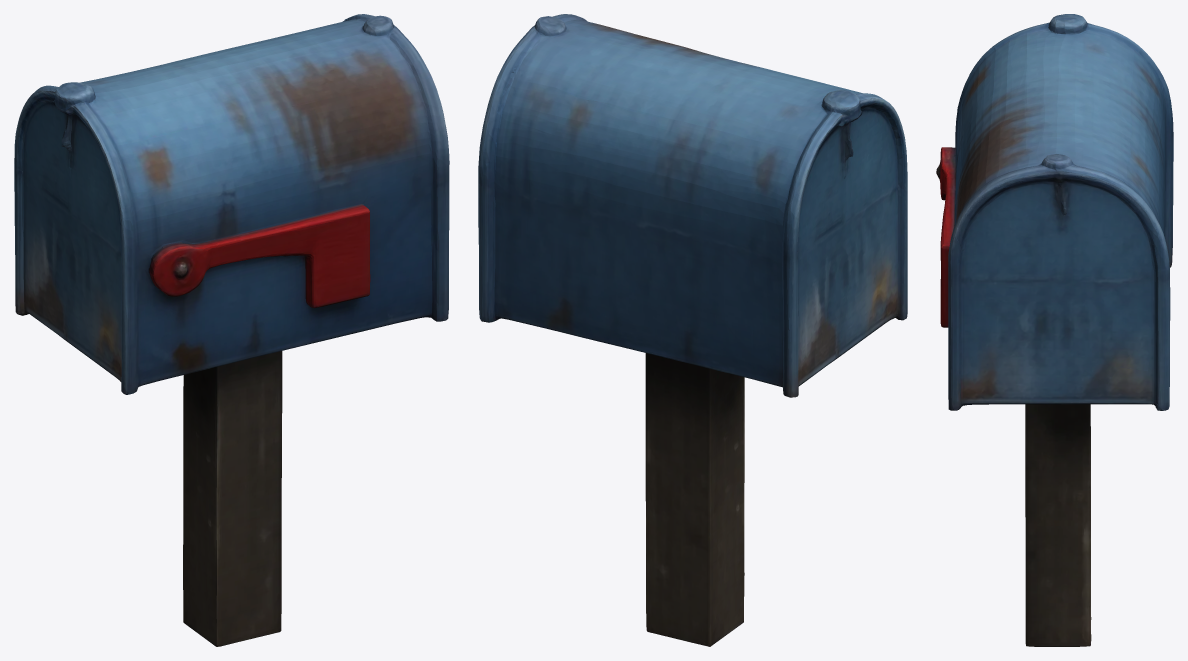
Rendered from mailbox.glb.
3 renders of one model, left to right at view 1: azimuth 30°, elevation 25°; view 2: azimuth 150°, elevation 25°; view 3: azimuth 270°, elevation 25°, orthographic. The views are drawn at different scales.
Visible parts, largest first — view 1: geometry_0; view 2: geometry_0; view 3: geometry_0.
Part boxes in pixels (bbox=[...]): geometry_0: bbox=[14, 14, 449, 646]; geometry_0: bbox=[478, 14, 907, 646]; geometry_0: bbox=[936, 14, 1173, 646].
Size of the model in its own units: 0.6005 by 0.9999 by 0.3943.
Materials: 1 (1 with a texture image).
